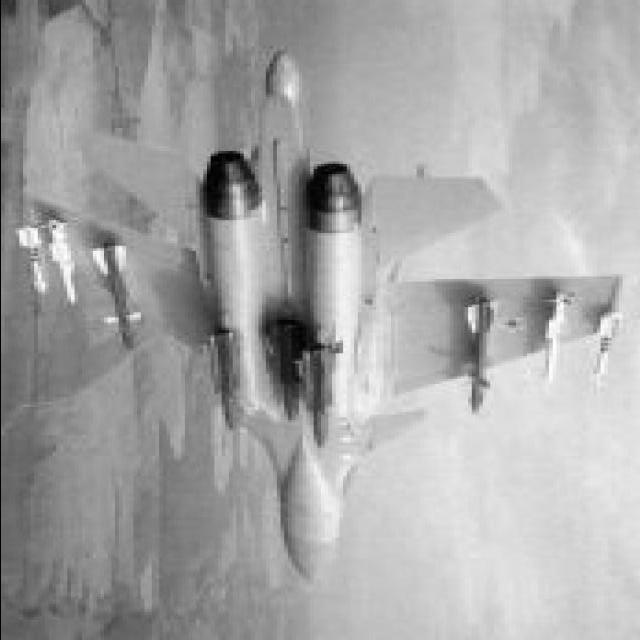Missile: (88, 240, 143, 357), (461, 286, 498, 420)
